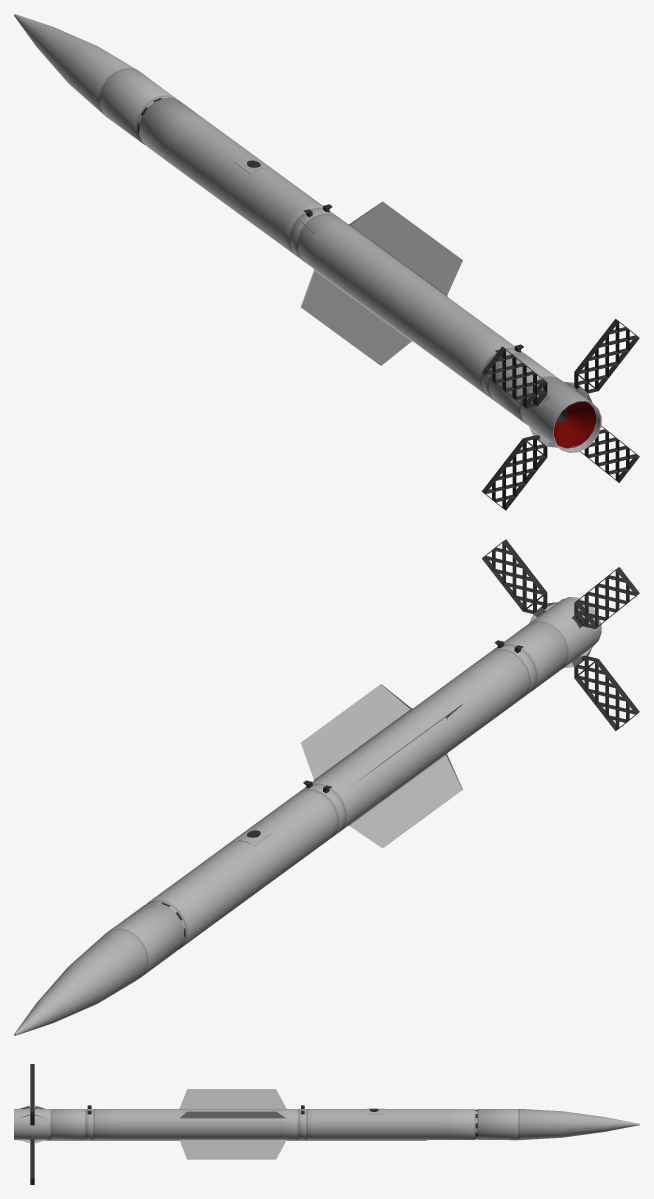
The model's file is missile.glb.
3 renders of one model, top to bottom at view 1: azimuth 30°, elevation 25°; view 2: azimuth 150°, elevation 25°; view 3: azimuth 270°, elevation 25°, orthographic. The views are drawn at different scales.
Parts seen in each view (by area): view 1: R-77; view 2: R-77; view 3: R-77.
Part boxes in pixels (x1=…): R-77: x1=14, y1=14, x2=639, y2=510; R-77: x1=14, y1=539, x2=639, y2=1035; R-77: x1=14, y1=1064, x2=639, y2=1184.
Bounding box in the file's own units: 0.5711 × 0.5711 × 3.6.
